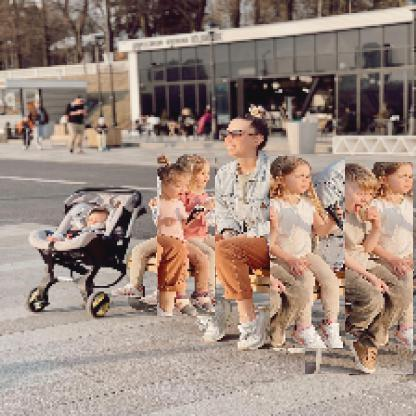child: (306, 163, 415, 376), (272, 155, 348, 350), (158, 154, 217, 318), (51, 206, 114, 243)
